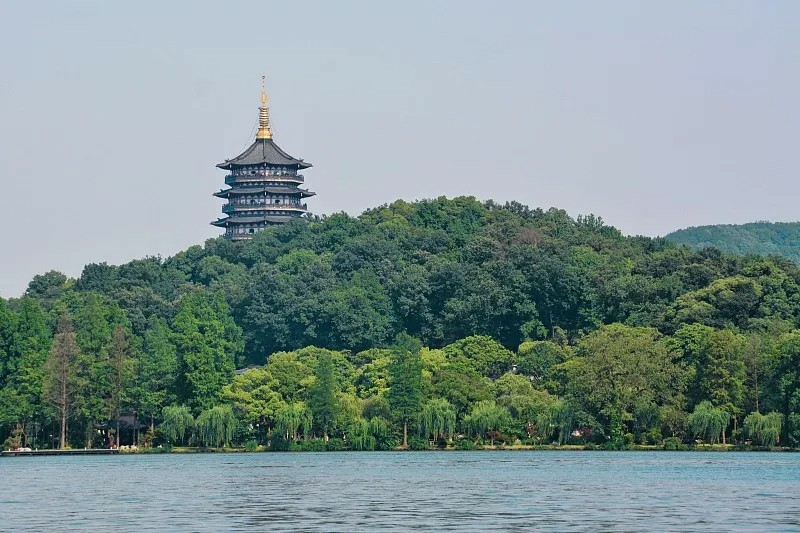Leifeng: (208, 73, 315, 240)
